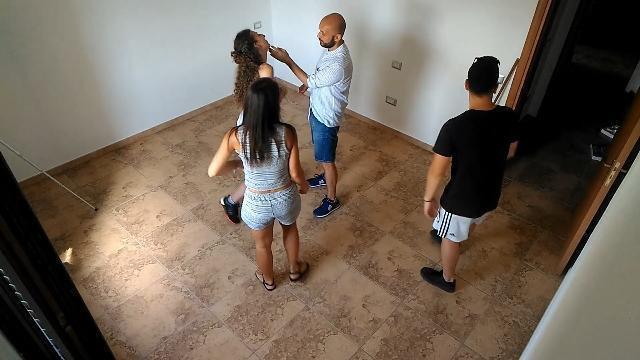non-violence: (421, 57, 519, 295), (211, 79, 313, 291)
violence: (220, 12, 352, 226)
